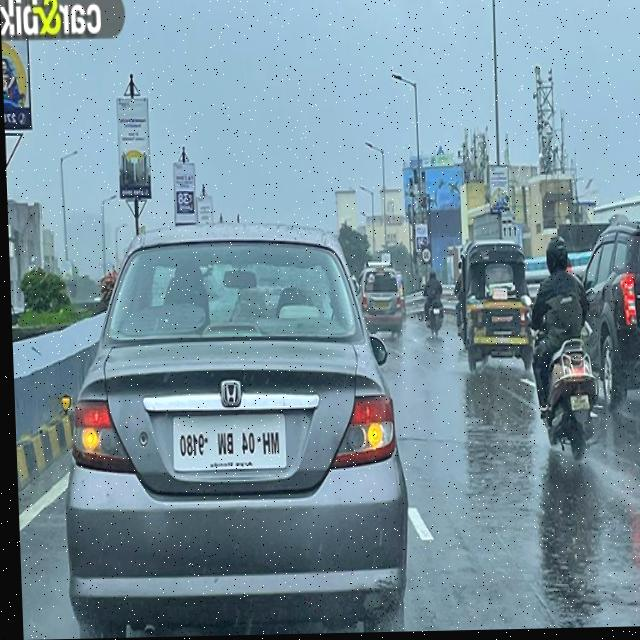plate: (165, 411, 285, 479), (567, 392, 589, 415), (369, 300, 387, 312), (471, 328, 484, 341)
